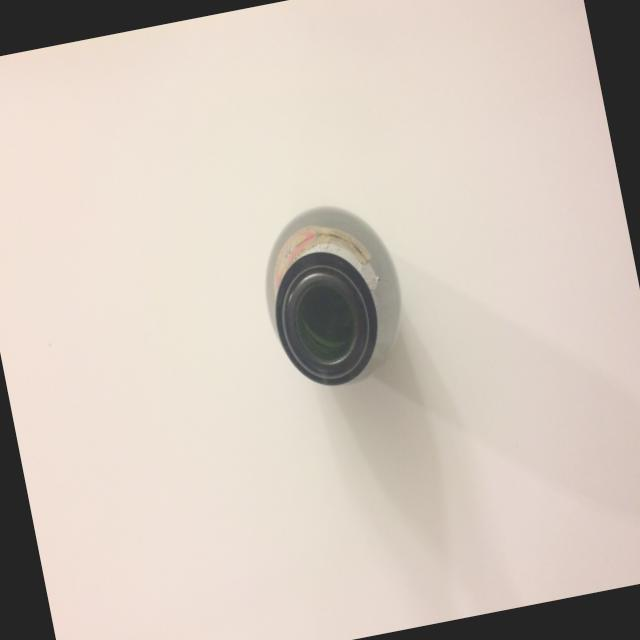Glass: (240, 180, 427, 415)
